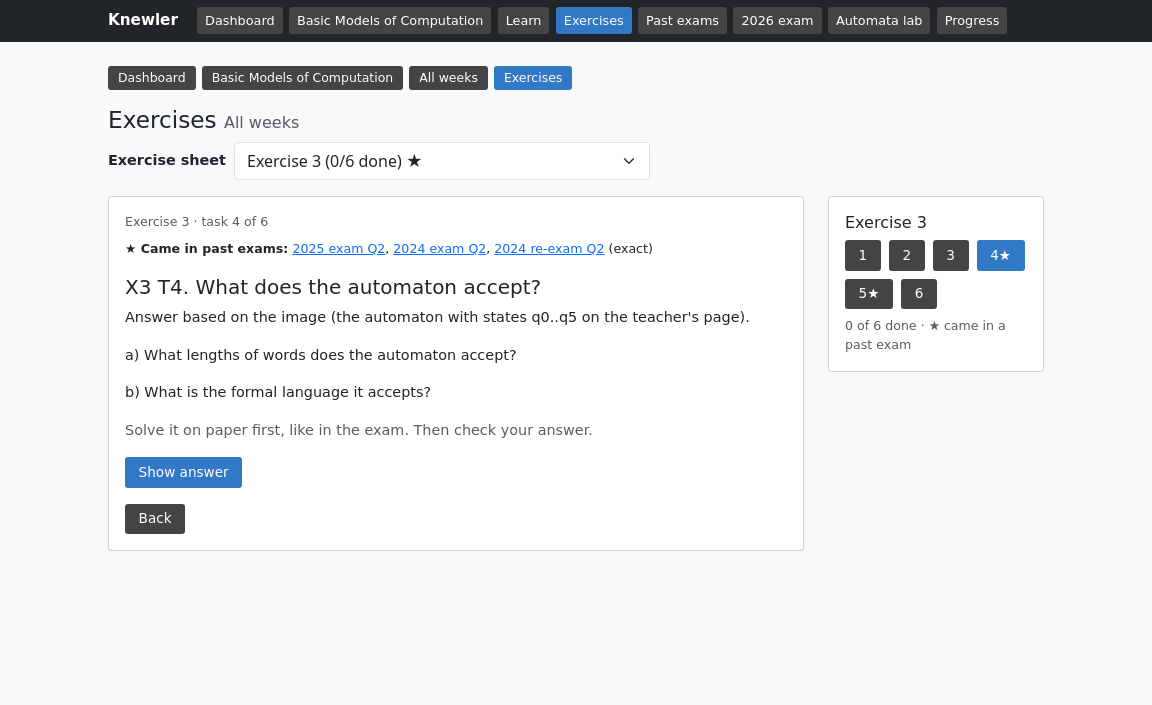
Test: Basic Models of Computation: Learn (PDFs) and Exercises only › marks the tasks that came in past exams and links to those exam questions
Expected: the heading "X3 T4. What does the automaton accept?" is shown, [125,275,541,299]
Expected: the button named "Exercise 3, task 4, came in past exams" reads "4★", [976,240,1024,271]
What coordinates should you click on to do the following:
click the link "2024 re-exam Q2"
I would click on:
 (549, 248)
Its box is [494,241,604,256].
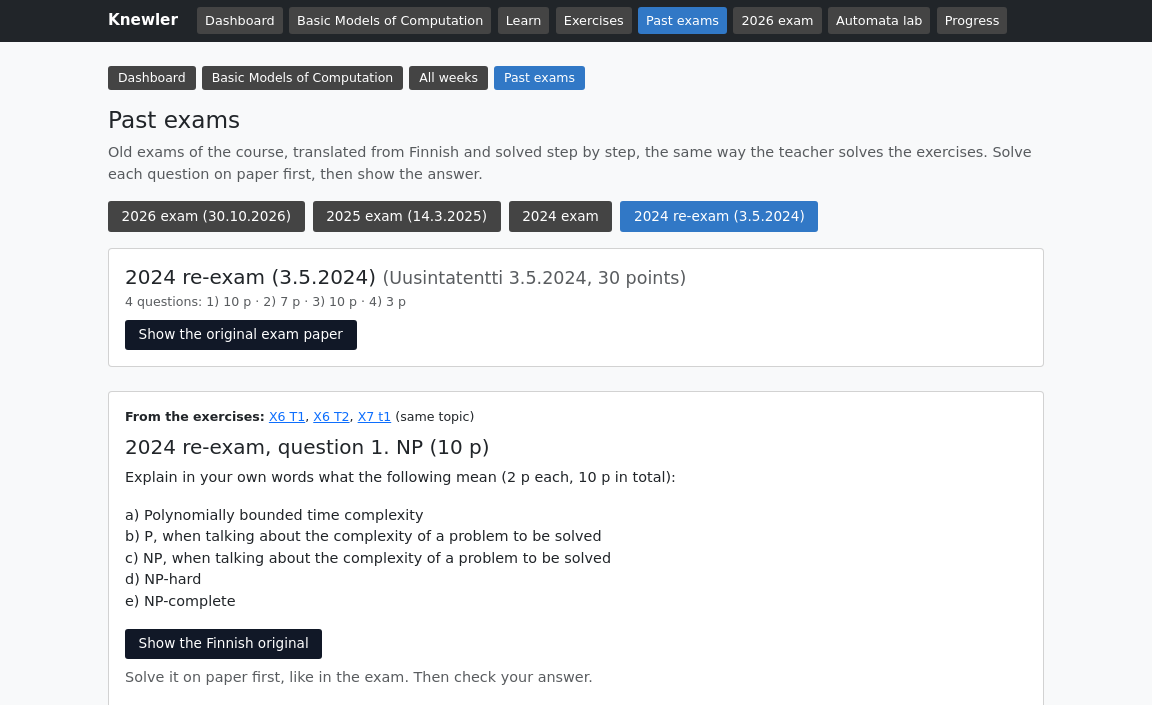
Result: the heading "2024 re-exam (3.5.2024) (Uusintatentti 3.5.2024, 30 points)" is shown at [125,265,686,289]
